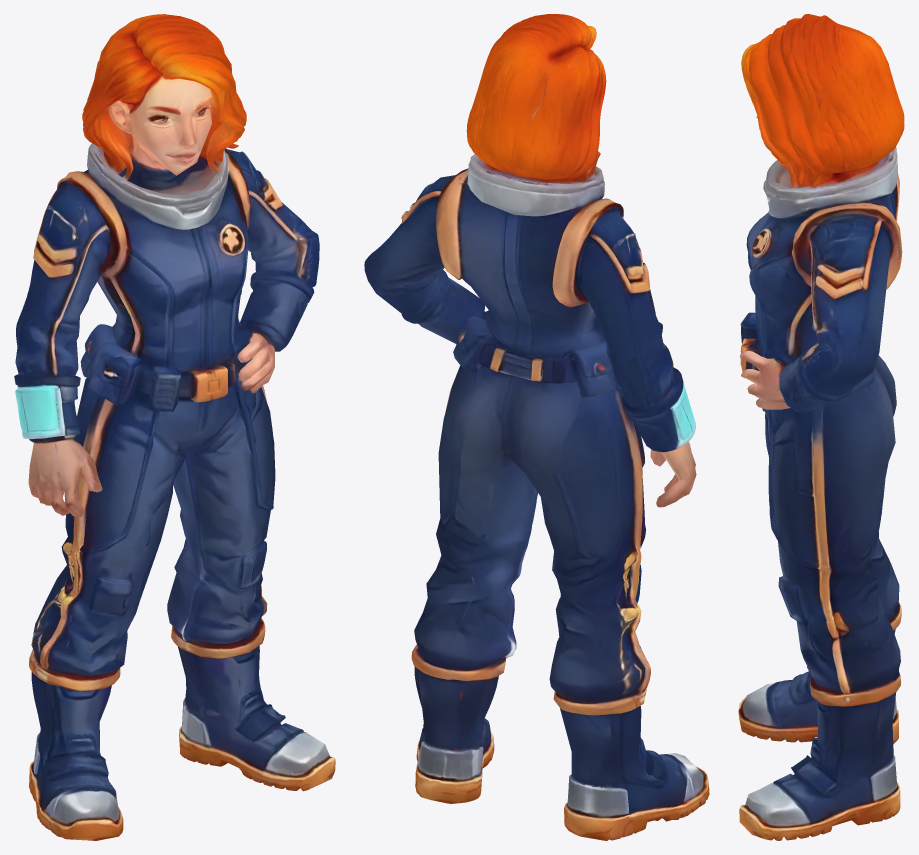
Rendered from avatar-female-starfarer.glb.
3 views of the same model, side by side, from view 1: azimuth 30°, elevation 25°; view 2: azimuth 150°, elevation 25°; view 3: azimuth 270°, elevation 25° (orthographic). The views are drawn at different scales.
Bounding box in the file's own units: 0.7894 × 1.9 × 0.3786.
Materials: 1 (1 with a texture image).
